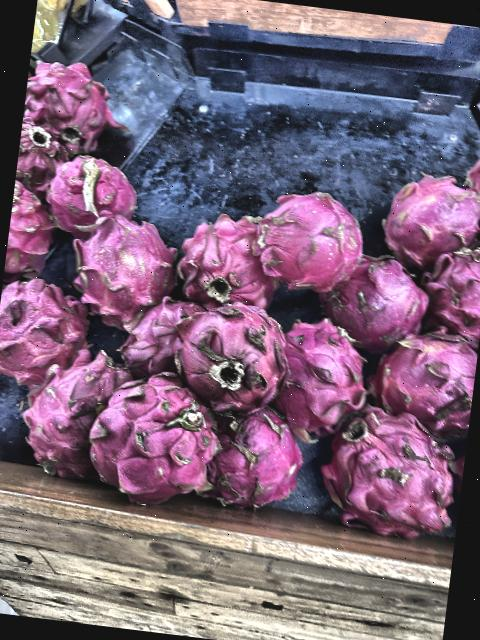buah-naga-matang: (323, 402, 470, 562), (77, 374, 226, 512), (162, 299, 306, 422), (250, 172, 373, 302), (57, 208, 182, 328), (272, 316, 380, 450), (18, 352, 125, 486), (194, 404, 318, 516), (172, 199, 285, 319), (0, 270, 101, 395), (373, 324, 479, 434), (327, 246, 434, 350), (20, 50, 125, 150), (374, 166, 480, 258), (35, 152, 145, 228), (406, 239, 480, 335), (121, 294, 203, 372), (4, 186, 60, 282), (15, 120, 76, 197)
